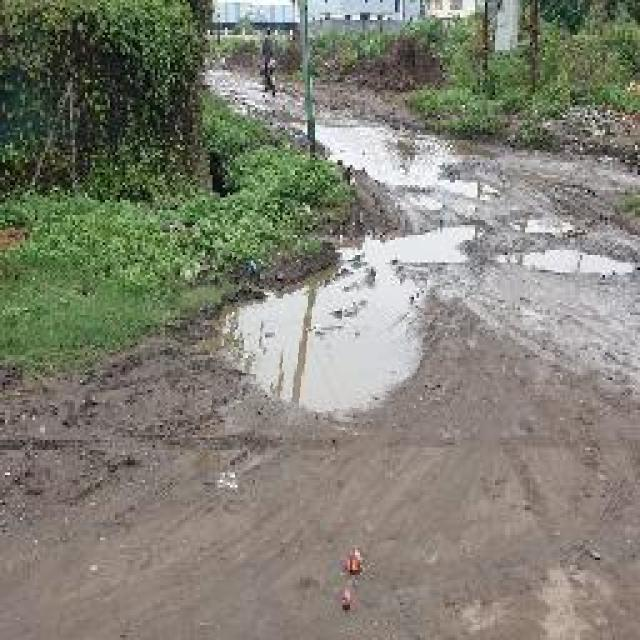puddle: (216, 256, 426, 430)
